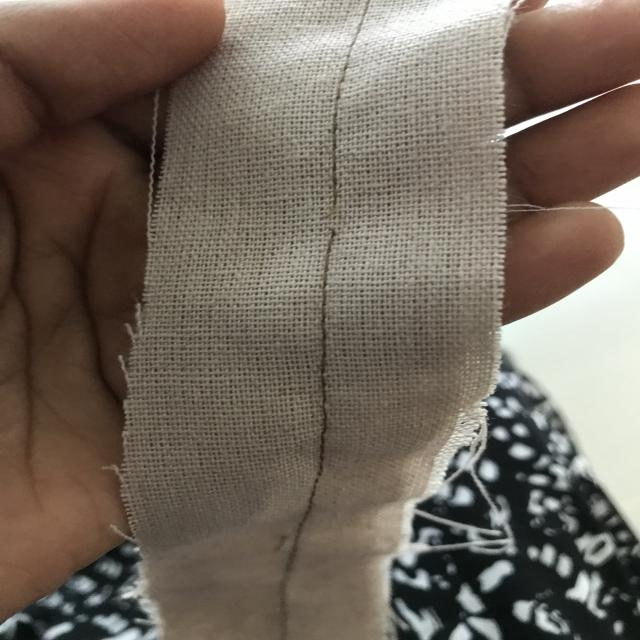broken: (302, 182, 352, 248)
